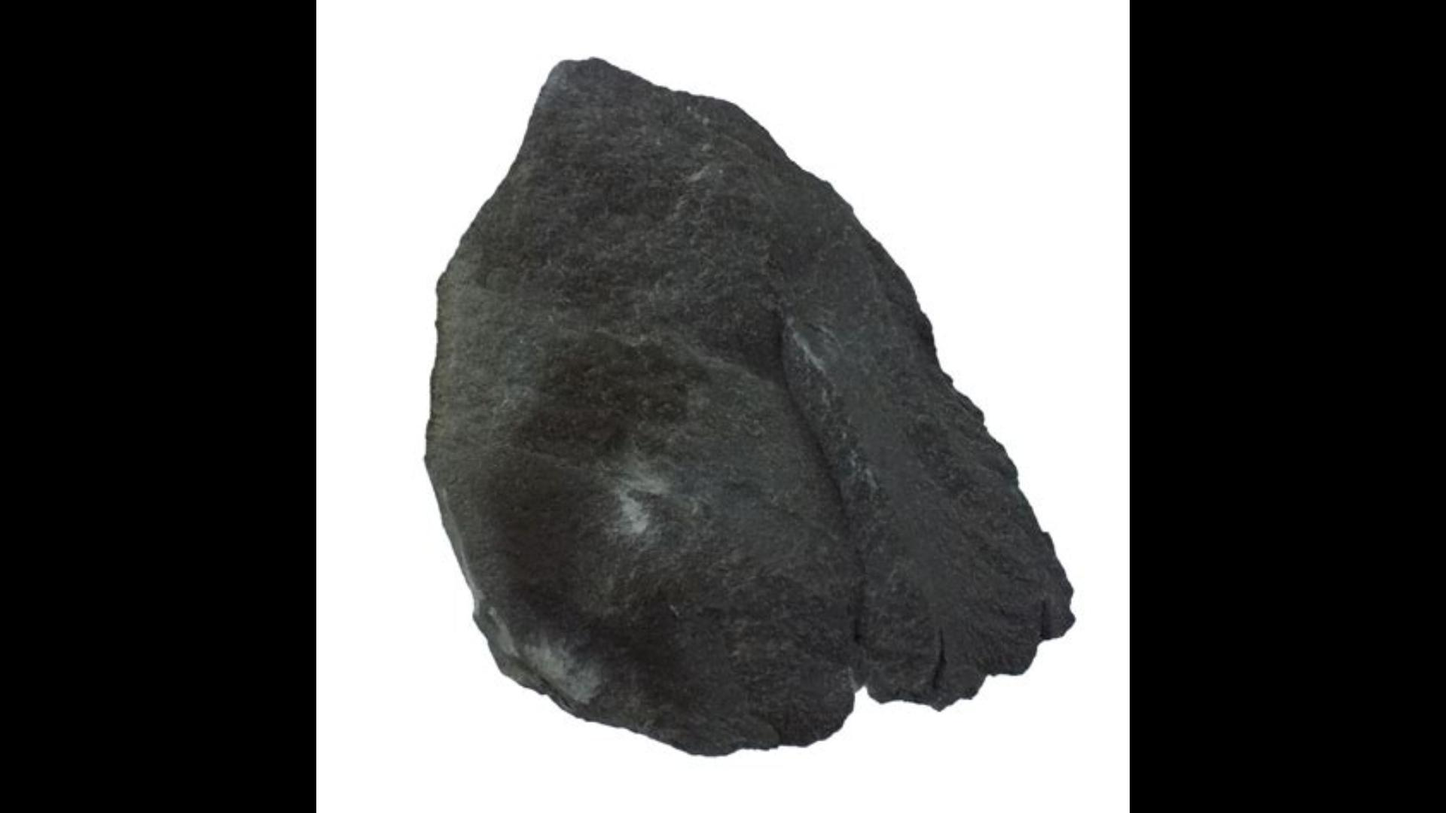rock: (426, 60, 1070, 753)
